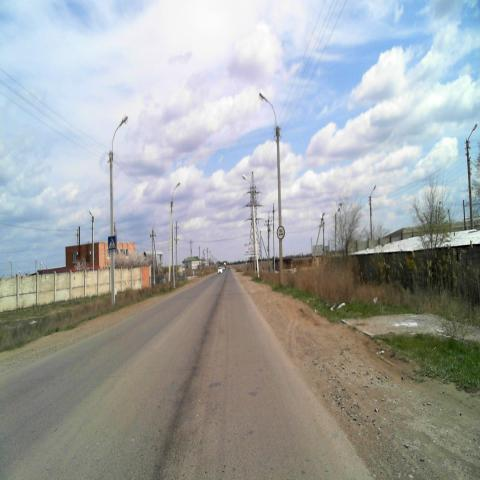3_12: (277, 225, 285, 240)
